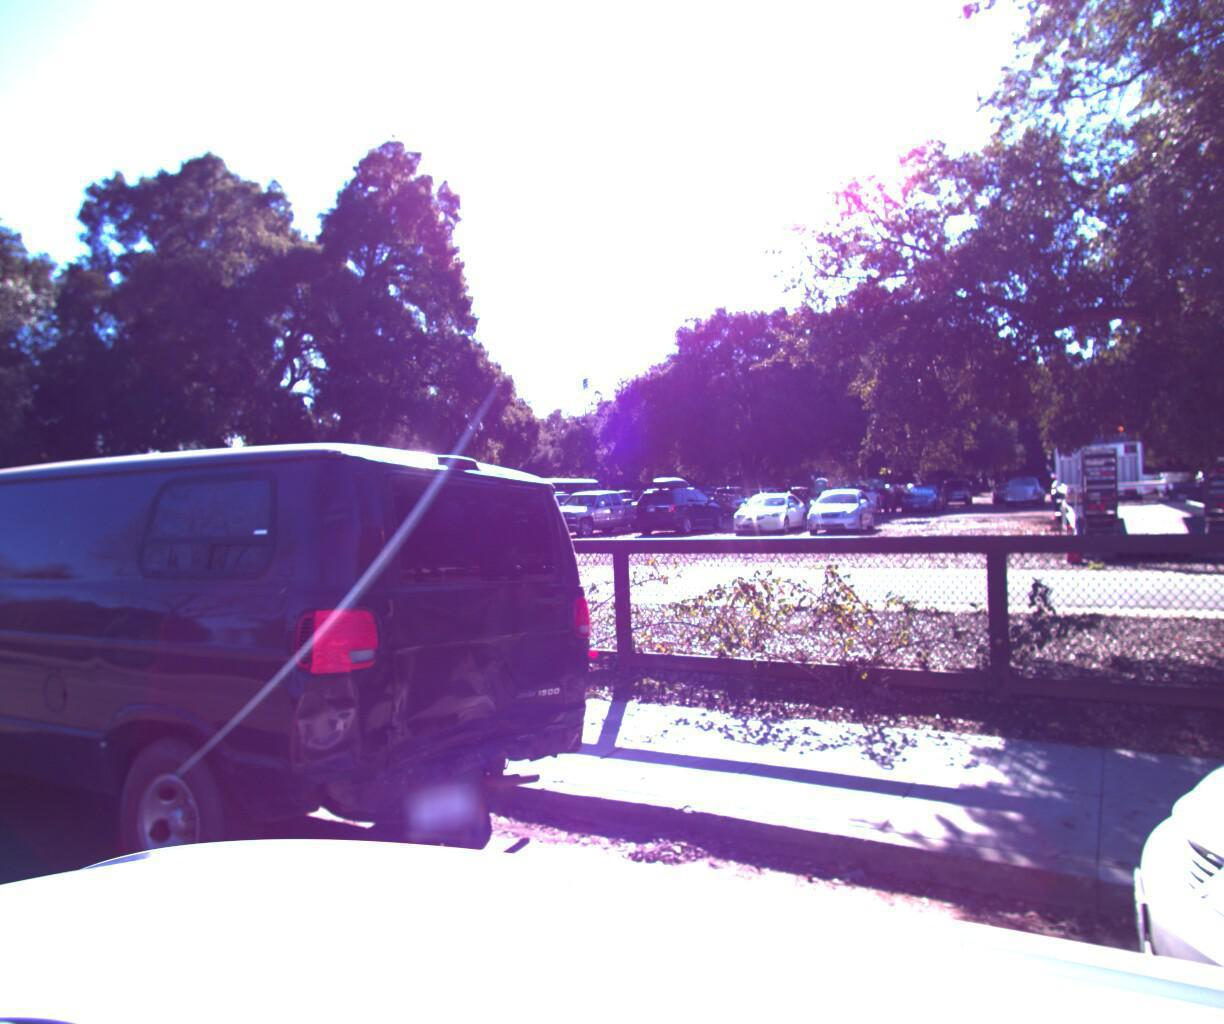car: (0, 416, 633, 984), (0, 550, 18, 778)
